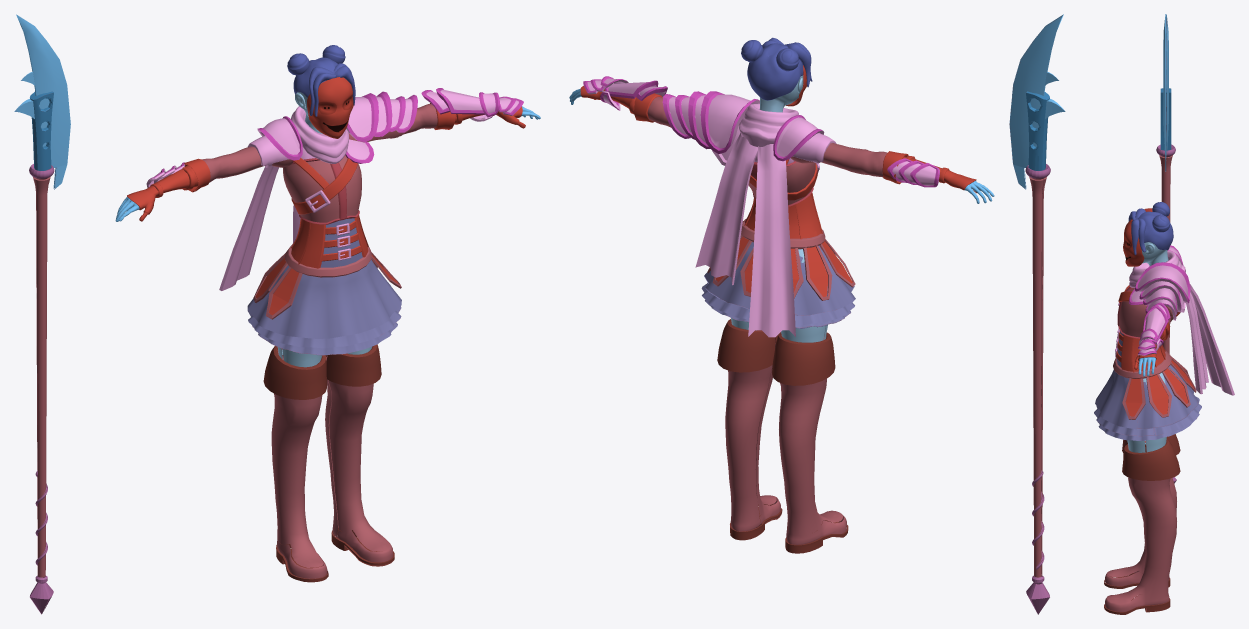
Rendered from CharTextured.fbx.
3 renders of one model, left to right at view 1: azimuth 30°, elevation 25°; view 2: azimuth 150°, elevation 25°; view 3: azimuth 270°, elevation 25°, orthographic. The views are drawn at different scales.
Parts seen in each view (by area): view 1: CharacterMesh, glaive, textureEditorIsolateSelectSetfabricskirtfloofy_skirt3, Scarf_end_3scarf_endsfabricfabric, fabricskirtlower_skirt_floof, fabricskirtleather_skirt_pieces, paludronsUVdpaludronspauldron_leftpauldron_w_neck_guard1, UVdpauldron_wo_neck_guard11pauldron_rightpaludronspaludrons, vambracesgroup3armsUVdend_mini_type_2_vambracevambracce_left, textureEditorIsolateSelectSetfabricbelt_waistskirt; view 2: CharacterMesh, glaive, Scarf_end_3scarf_endsfabricfabric, scarf_endsfabricScarf_end_1, fabricskirtleather_skirt_pieces, textureEditorIsolateSelectSetfabricskirtfloofy_skirt3, paludronsUVdpaludronspauldron_leftpauldron_w_neck_guard1, fabricskirtlower_skirt_floof, UVdpauldron_wo_neck_guard11pauldron_rightpaludronspaludrons, Vambrace_rightvambraces, vambracesgroup3armsUVdend_mini_type_2_vambracevambracce_left, paludronsUVdpaludronspauldron_leftpauldron_wo_neck_guard2; view 3: CharacterMesh, textureEditorIsolateSelectSetfabricskirtfloofy_skirt3, fabricskirtleather_skirt_pieces, glaive, Scarf_end_3scarf_endsfabricfabric, fabricskirtlower_skirt_floof, paludronsUVdpaludronspauldron_leftpauldron_w_neck_guard1, scarf_endsfabricScarf_end_1, vambracesgroup3armsUVdend_mini_type_2_vambracevambracce_left, paludronsUVdpaludronspauldron_leftpauldron_wo_neck_guard2, paludronsUVdpaludronspauldron_leftpauldron_wo_neck_guard9, textureEditorIsolateSelectSetfabricbelt_waistskirt (+1 smaller).
Part boxes in pixels (x1=…): CharacterMesh: x1=115, y1=45, x2=540, y2=582; glaive: x1=14, y1=14, x2=70, y2=614; textureEditorIsolateSelectSetfabricskirtfloofy_skirt3: x1=247, y1=259, x2=401, y2=338; Scarf_end_3scarf_endsfabricfabric: x1=219, y1=166, x2=278, y2=290; fabricskirtlower_skirt_floof: x1=248, y1=306, x2=401, y2=355; fabricskirtleather_skirt_pieces: x1=253, y1=252, x2=401, y2=319; paludronsUVdpaludronspauldron_leftpauldron_w_neck_guard1: x1=346, y1=93, x2=378, y2=142; UVdpauldron_wo_neck_guard11pauldron_rightpaludronspaludrons: x1=257, y1=116, x2=302, y2=160; vambracesgroup3armsUVdend_mini_type_2_vambracevambracce_left: x1=421, y1=88, x2=484, y2=114; textureEditorIsolateSelectSetfabricbelt_waistskirt: x1=288, y1=244, x2=371, y2=277; CharacterMesh: x1=569, y1=37, x2=994, y2=553; glaive: x1=1009, y1=14, x2=1065, y2=614; Scarf_end_3scarf_endsfabricfabric: x1=748, y1=144, x2=795, y2=337; scarf_endsfabricScarf_end_1: x1=695, y1=133, x2=757, y2=285; fabricskirtleather_skirt_pieces: x1=707, y1=235, x2=855, y2=300; textureEditorIsolateSelectSetfabricskirtfloofy_skirt3: x1=704, y1=242, x2=855, y2=315; paludronsUVdpaludronspauldron_leftpauldron_w_neck_guard1: x1=700, y1=91, x2=759, y2=153; fabricskirtlower_skirt_floof: x1=701, y1=283, x2=854, y2=328; UVdpauldron_wo_neck_guard11pauldron_rightpaludronspaludrons: x1=773, y1=115, x2=824, y2=161; Vambrace_rightvambraces: x1=887, y1=158, x2=939, y2=187; vambracesgroup3armsUVdend_mini_type_2_vambracevambracce_left: x1=605, y1=80, x2=667, y2=100; paludronsUVdpaludronspauldron_leftpauldron_wo_neck_guard2: x1=688, y1=91, x2=710, y2=149; CharacterMesh: x1=1104, y1=202, x2=1185, y2=614; textureEditorIsolateSelectSetfabricskirtfloofy_skirt3: x1=1095, y1=365, x2=1198, y2=429; fabricskirtleather_skirt_pieces: x1=1122, y1=356, x2=1196, y2=419; glaive: x1=1156, y1=14, x2=1176, y2=483; Scarf_end_3scarf_endsfabricfabric: x1=1190, y1=284, x2=1234, y2=395; fabricskirtlower_skirt_floof: x1=1094, y1=396, x2=1201, y2=440; paludronsUVdpaludronspauldron_leftpauldron_w_neck_guard1: x1=1135, y1=262, x2=1190, y2=303; scarf_endsfabricScarf_end_1: x1=1186, y1=292, x2=1208, y2=394; vambracesgroup3armsUVdend_mini_type_2_vambracevambracce_left: x1=1142, y1=302, x2=1170, y2=344; paludronsUVdpaludronspauldron_leftpauldron_wo_neck_guard2: x1=1139, y1=281, x2=1181, y2=312; paludronsUVdpaludronspauldron_leftpauldron_wo_neck_guard9: x1=1143, y1=288, x2=1177, y2=314; textureEditorIsolateSelectSetfabricbelt_waistskirt: x1=1113, y1=350, x2=1171, y2=378.
Bounding box in the file's own units: 9.42 × 10.71 × 2.9.
